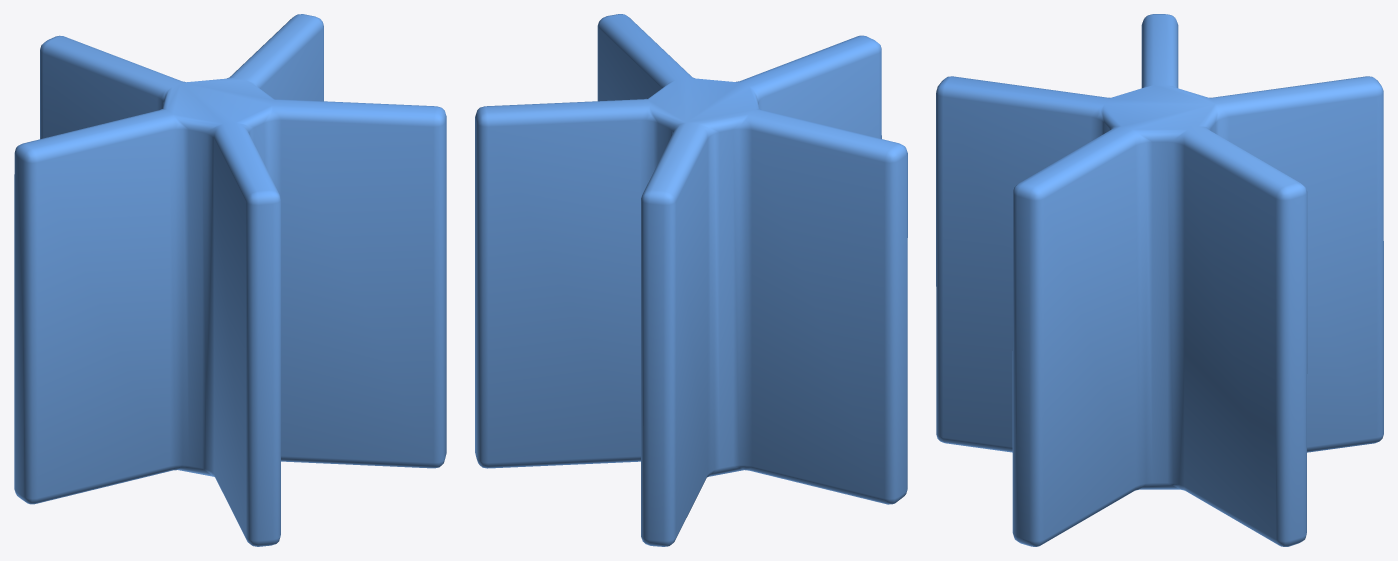
File: platformcirclehorizontal_001.fbx
The picture shows the model from 3 angles, left to right: view 1: azimuth 30°, elevation 25°; view 2: azimuth 150°, elevation 25°; view 3: azimuth 270°, elevation 25°; orthographic projection.
Parts seen in each view (by area): view 1: Cylinder.007; view 2: Cylinder.007; view 3: Cylinder.007.
Boxes of the visible parts, x1,y1,x2,y2 form: Cylinder.007: (14, 14, 446, 546); Cylinder.007: (475, 14, 907, 546); Cylinder.007: (936, 14, 1383, 546).
Bounding box in the file's own units: 212 × 197 × 223.
1 material, 1 textured.
